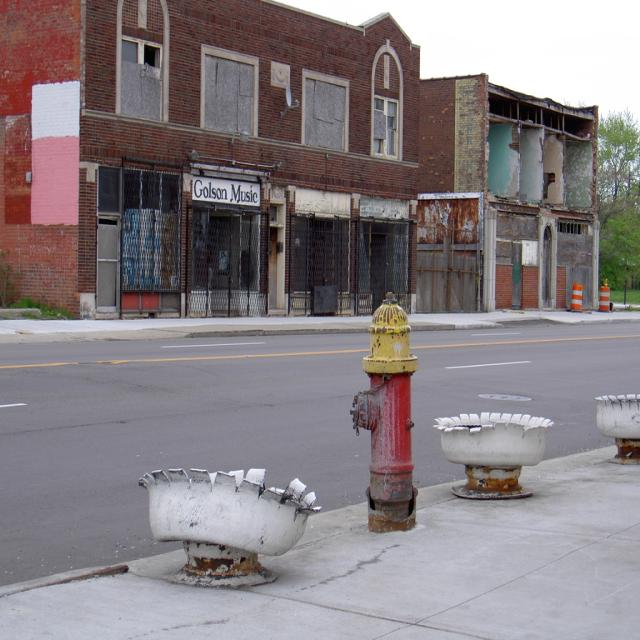fire_hydrant: (352, 289, 416, 530)
